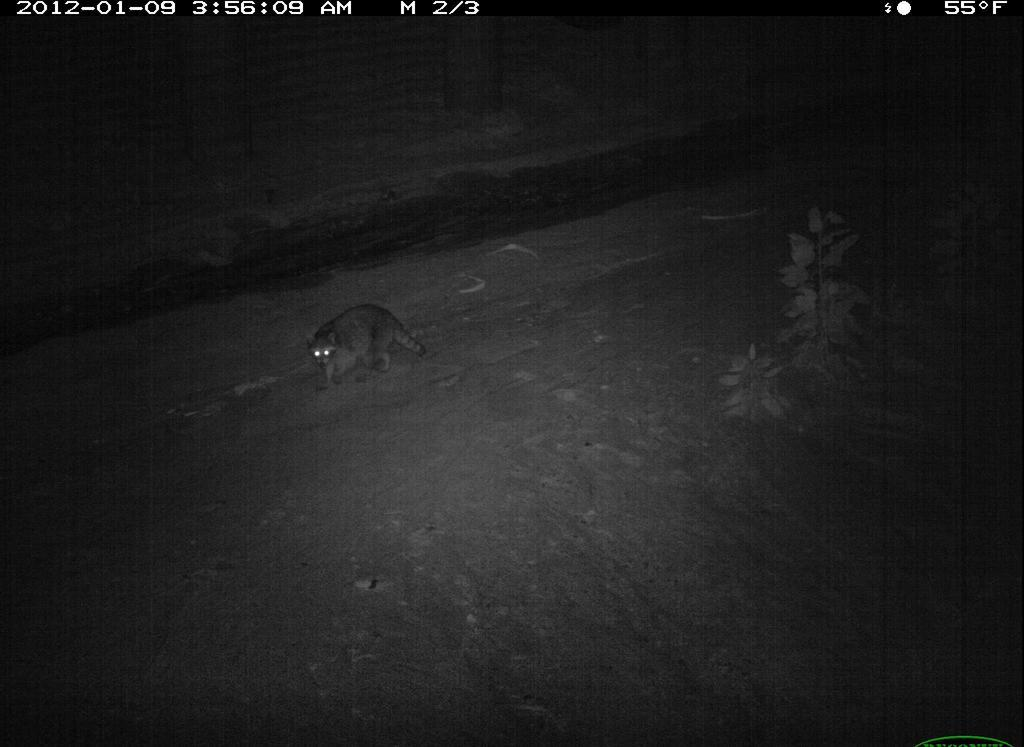raccoon: (301, 299, 429, 392)
